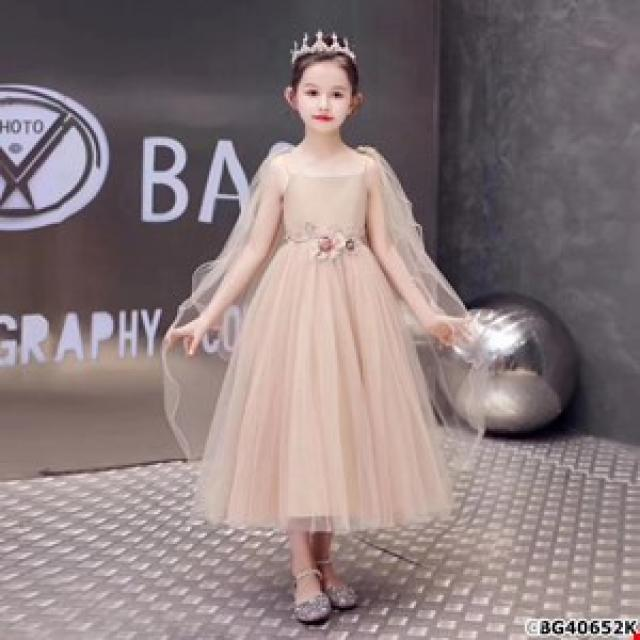clothes: (180, 136, 470, 550)
